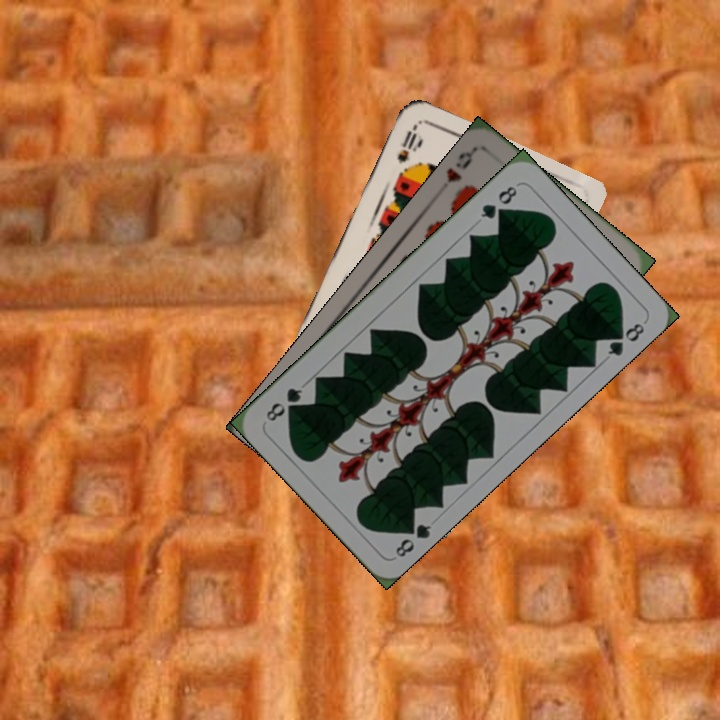G8: (391, 516, 434, 560), (476, 181, 520, 222)
H9: (442, 145, 478, 186)
S10: (393, 120, 423, 167)
